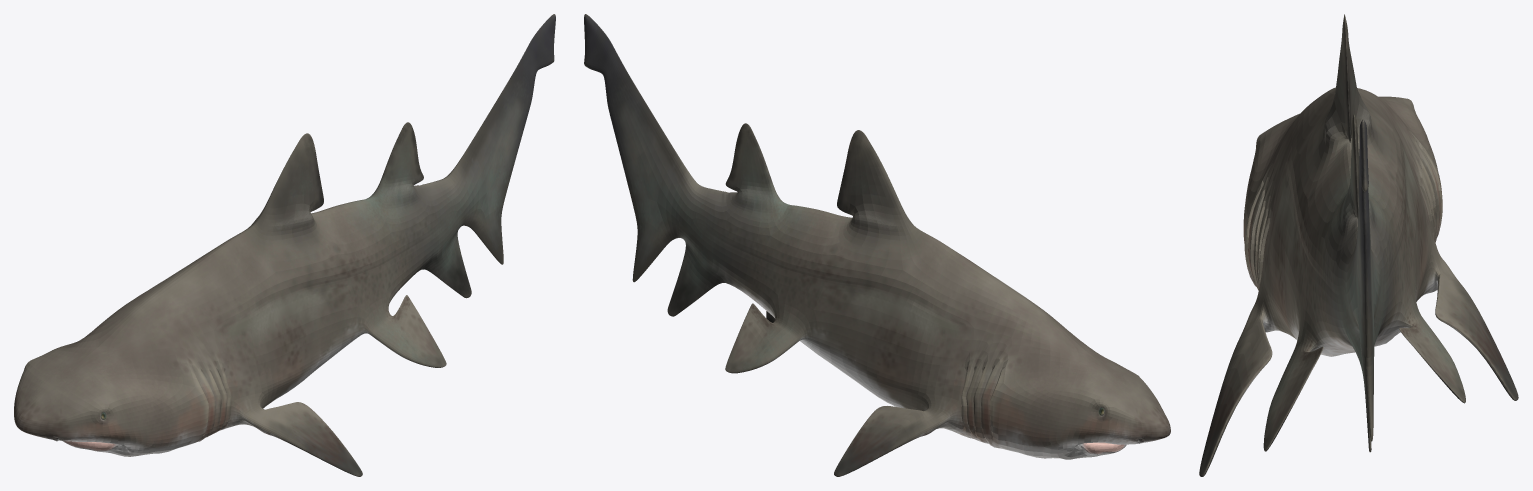
File: Shark_v2.obj
The picture shows the model from 3 angles, left to right: view 1: azimuth 30°, elevation 25°; view 2: azimuth 150°, elevation 25°; view 3: azimuth 270°, elevation 25°; orthographic projection. The views are drawn at different scales.
Visible parts, largest first — view 1: _Shark_v2; view 2: _Shark_v2; view 3: _Shark_v2.
Boxes of the visible parts, x1=… form: _Shark_v2: x1=14, y1=14, x2=555, y2=476; _Shark_v2: x1=584, y1=14, x2=1170, y2=476; _Shark_v2: x1=1199, y1=14, x2=1518, y2=476.
Bounding box in the file's own units: 9.45 × 5.97 × 3.22.
1 material, 1 textured.
